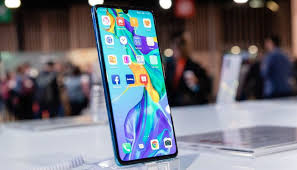huawei: (92, 2, 181, 166)
